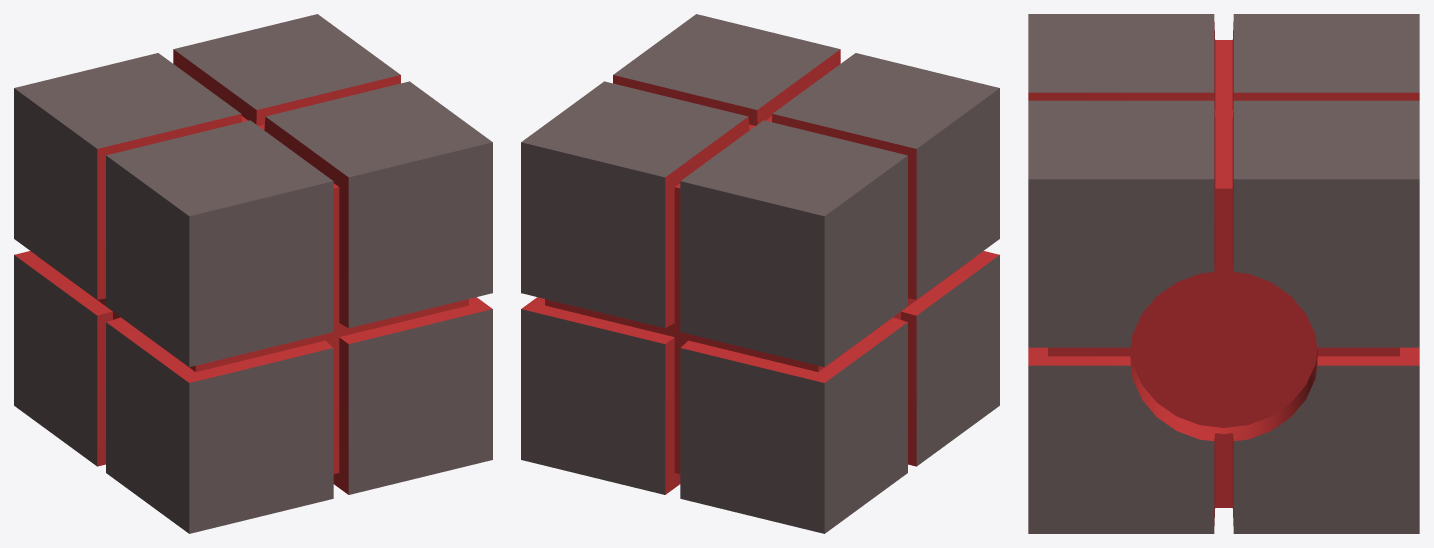
Rendered from Boss-enemy-2019.fbx.
3 renders of one model, left to right at view 1: azimuth 30°, elevation 25°; view 2: azimuth 150°, elevation 25°; view 3: azimuth 270°, elevation 25°, orthographic. The views are drawn at different scales.
Parts seen in each view (by area): view 1: Boss_enemy; view 2: Boss_enemy; view 3: Boss_enemy.
Boxes of the visible parts, x1=… form: Boss_enemy: x1=14, y1=14, x2=492, y2=533; Boss_enemy: x1=521, y1=14, x2=999, y2=533; Boss_enemy: x1=1028, y1=14, x2=1419, y2=533.
Size of the model in its own units: 200 by 200 by 200.
1 material, 1 textured.
